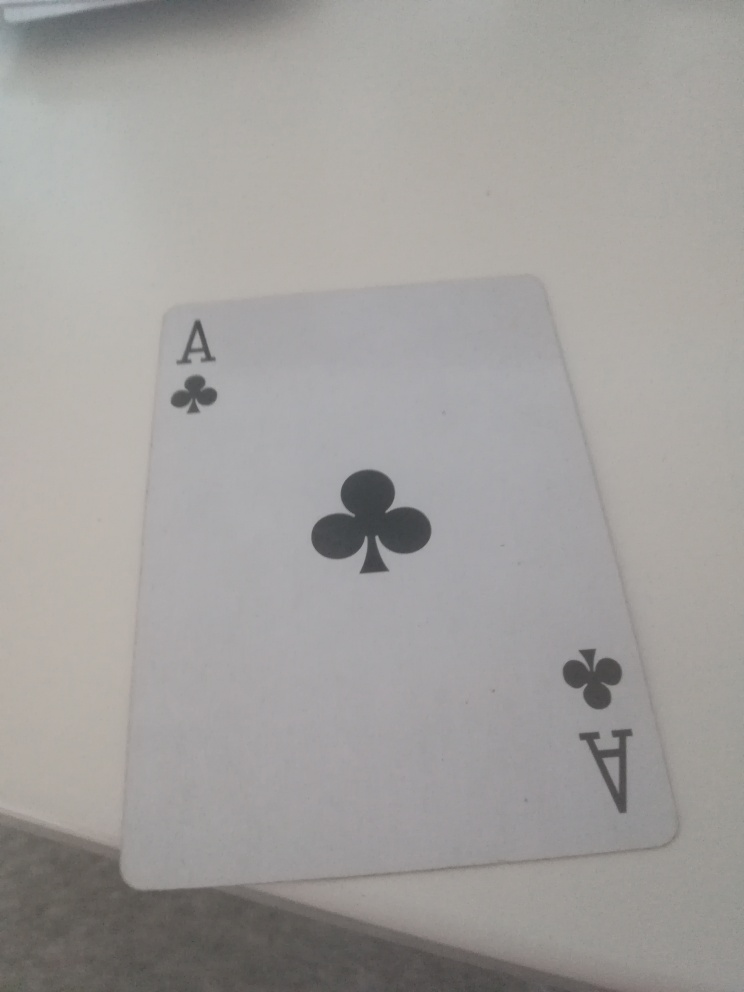AC: (165, 313, 227, 423)
